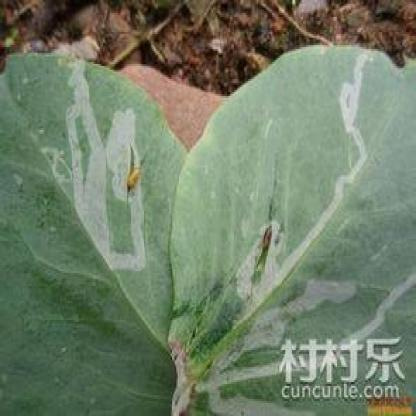whorl-maggot: (122, 150, 152, 198), (252, 218, 281, 256)
